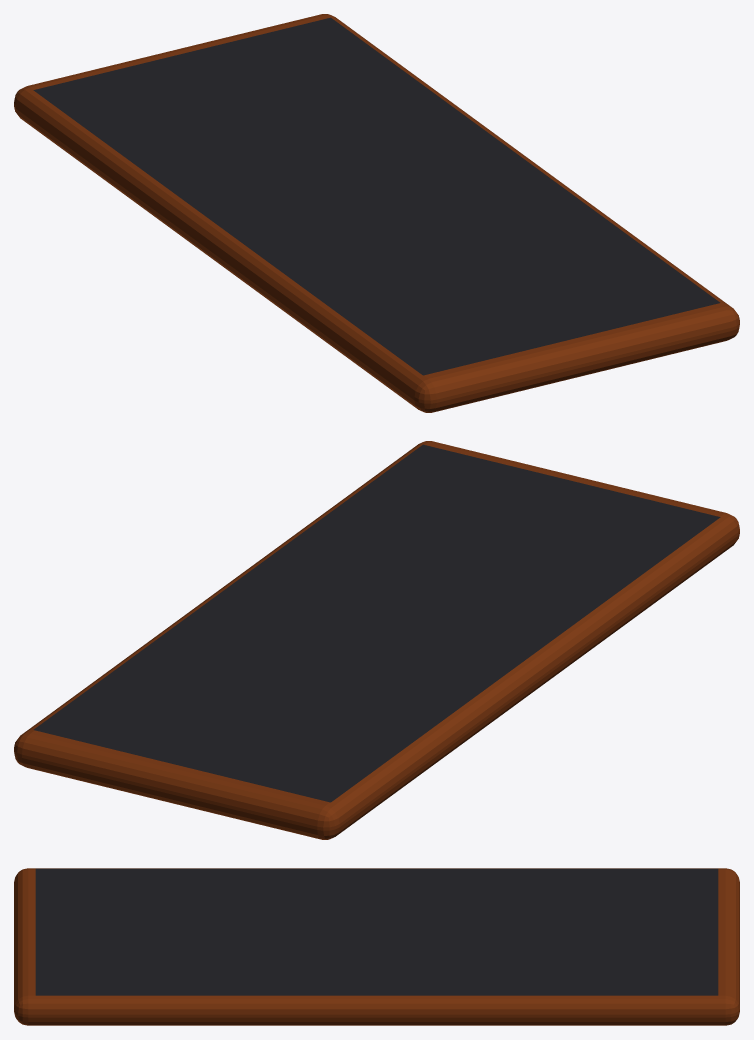
File: oppo-reno-model-299-mid-range-2024.glb
3 views of the same model, one above another, from view 1: azimuth 30°, elevation 25°; view 2: azimuth 150°, elevation 25°; view 3: azimuth 270°, elevation 25° (orthographic). The views are drawn at different scales.
Parts seen in each view (by area): view 1: Phone_Screen, Phone_Body; view 2: Phone_Screen, Phone_Body; view 3: Phone_Screen, Phone_Body.
Part boxes in pixels (x1,y1,x2,y2): Phone_Screen: [33, 17, 720, 375]; Phone_Body: [14, 14, 739, 412]; Phone_Screen: [33, 444, 720, 802]; Phone_Body: [14, 441, 739, 839]; Phone_Screen: [35, 868, 718, 995]; Phone_Body: [14, 868, 739, 1025].
Size of the model in its own units: 0.0721 by 0.0071 by 0.1601.
